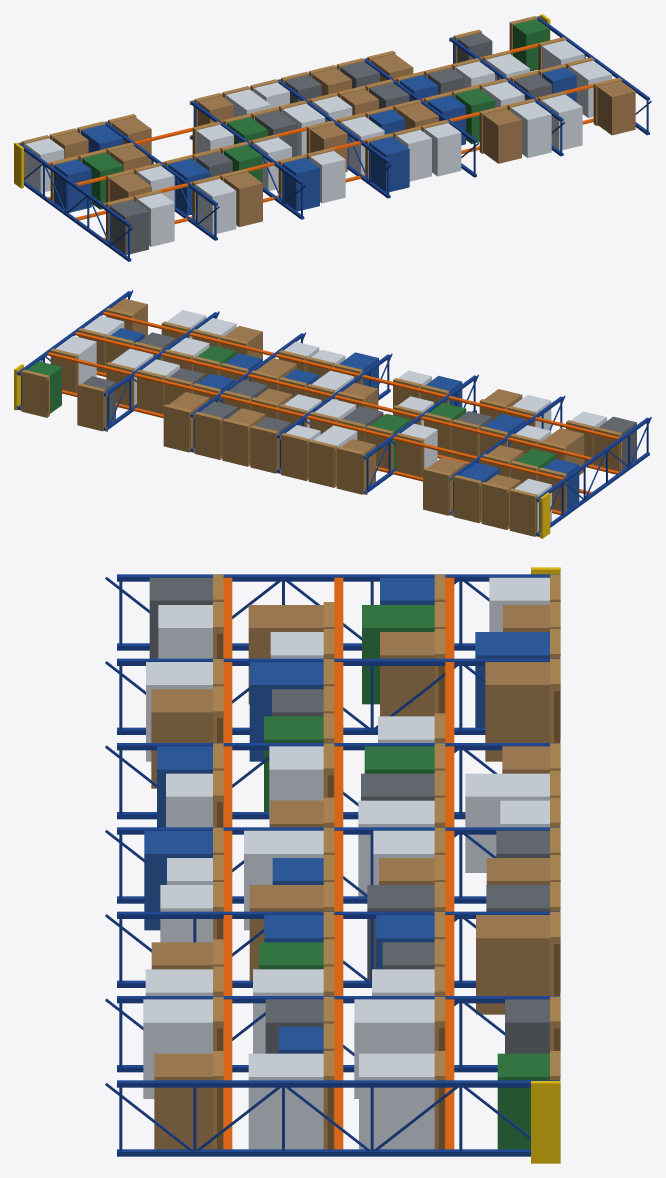
File: rack_D.obj
The picture shows the model from 3 angles, top to bottom: view 1: azimuth 30°, elevation 25°; view 2: azimuth 150°, elevation 25°; view 3: azimuth 270°, elevation 25°; orthographic projection. The views are drawn at different scales.
Parts seen in each view (by area): view 1: wrap, cardboard, crate_blue, wood, upright, crate_grey, crate_green, beam, wood_dark, yellow; view 2: wood, wrap, beam, upright, cardboard, crate_blue, crate_grey, crate_green, wood_dark, yellow; view 3: wrap, cardboard, upright, wood, crate_blue, crate_grey, beam, crate_green, wood_dark, yellow.
Boxes of the visible parts, x1,y1,x2,y2 form: wrap: (25,40,611,246); cardboard: (53,54,635,226); crate_blue: (54,67,576,215); wood: (21,16,621,241); upright: (19,17,651,261); crate_grey: (109,33,552,254); crate_green: (82,19,549,209); beam: (48,38,615,239); wood_dark: (50,26,595,240); yellow: (14,14,550,188); wood: (21,308,621,536); wrap: (55,310,606,531); beam: (47,311,619,515); upright: (17,290,651,535); cardboard: (111,298,584,510); crate_blue: (111,328,579,510); crate_grey: (82,332,636,469); crate_green: (27,345,555,468); wood_dark: (47,322,620,532); yellow: (14,364,550,538); wrap: (143,577,549,1149); cardboard: (151,605,549,1149); upright: (105,574,559,1156); wood: (213,574,560,1149); crate_blue: (144,577,549,1053); crate_grey: (149,577,549,1053); beam: (223,577,454,1149); crate_green: (259,605,549,1149); wood_dark: (217,633,559,1149); yellow: (531,567,560,1163).
Bounding box in the file's own units: 16.52 × 1.2 × 6.16.
